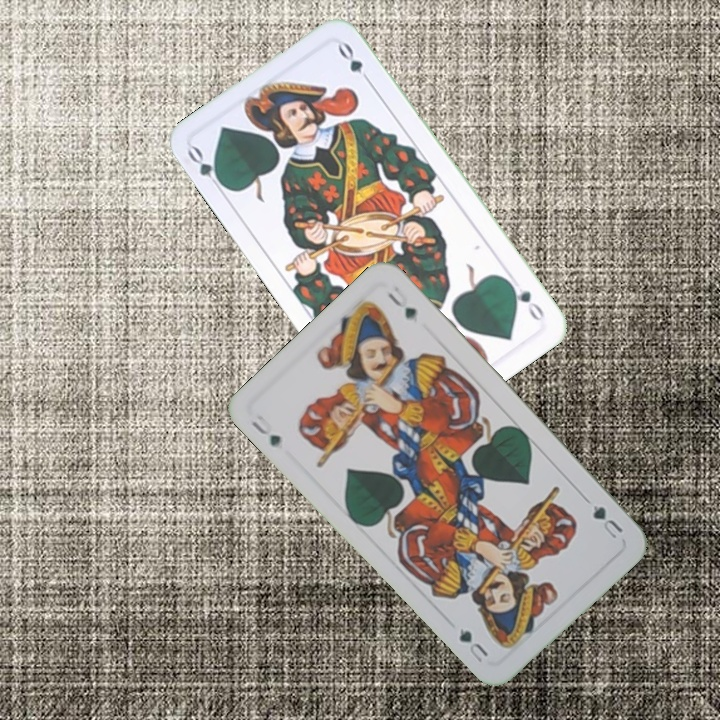GO: (183, 142, 229, 195), (503, 276, 547, 324)
GU: (587, 501, 626, 542), (247, 410, 284, 451)
